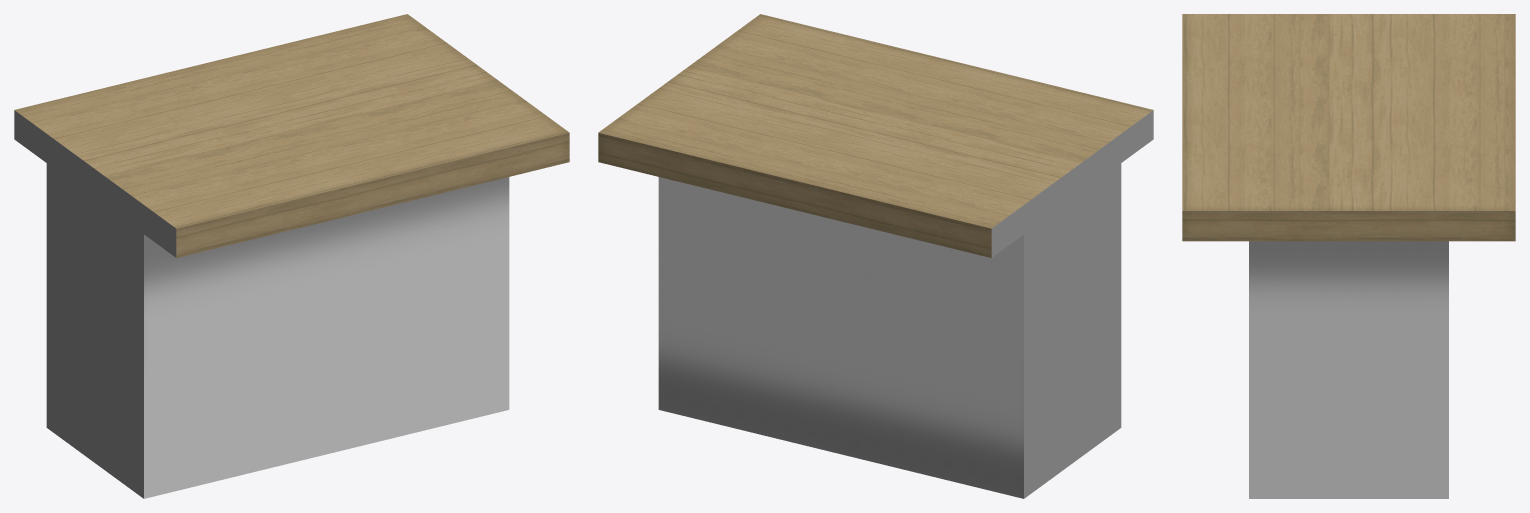
The model's file is SM_Table_Side.fbx.
3 renders of one model, left to right at view 1: azimuth 30°, elevation 25°; view 2: azimuth 150°, elevation 25°; view 3: azimuth 270°, elevation 25°, orthographic. The views are drawn at different scales.
Visible parts, largest first — view 1: SM_Table_Side; view 2: SM_Table_Side; view 3: SM_Table_Side.
Boxes of the visible parts, box(x1,y1,x2,y2) form: SM_Table_Side: box(14, 14, 569, 498); SM_Table_Side: box(598, 14, 1153, 498); SM_Table_Side: box(1182, 14, 1515, 498).
Size of the model in its own units: 70 by 50 by 50.
